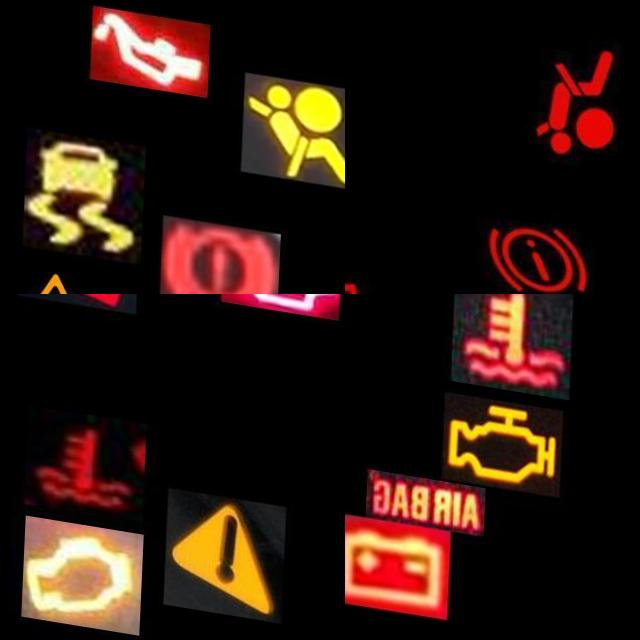Central Warning lamp: (167, 473, 289, 606), (0, 246, 120, 294)
Engine cooling system: (28, 395, 149, 510), (452, 294, 574, 383)
